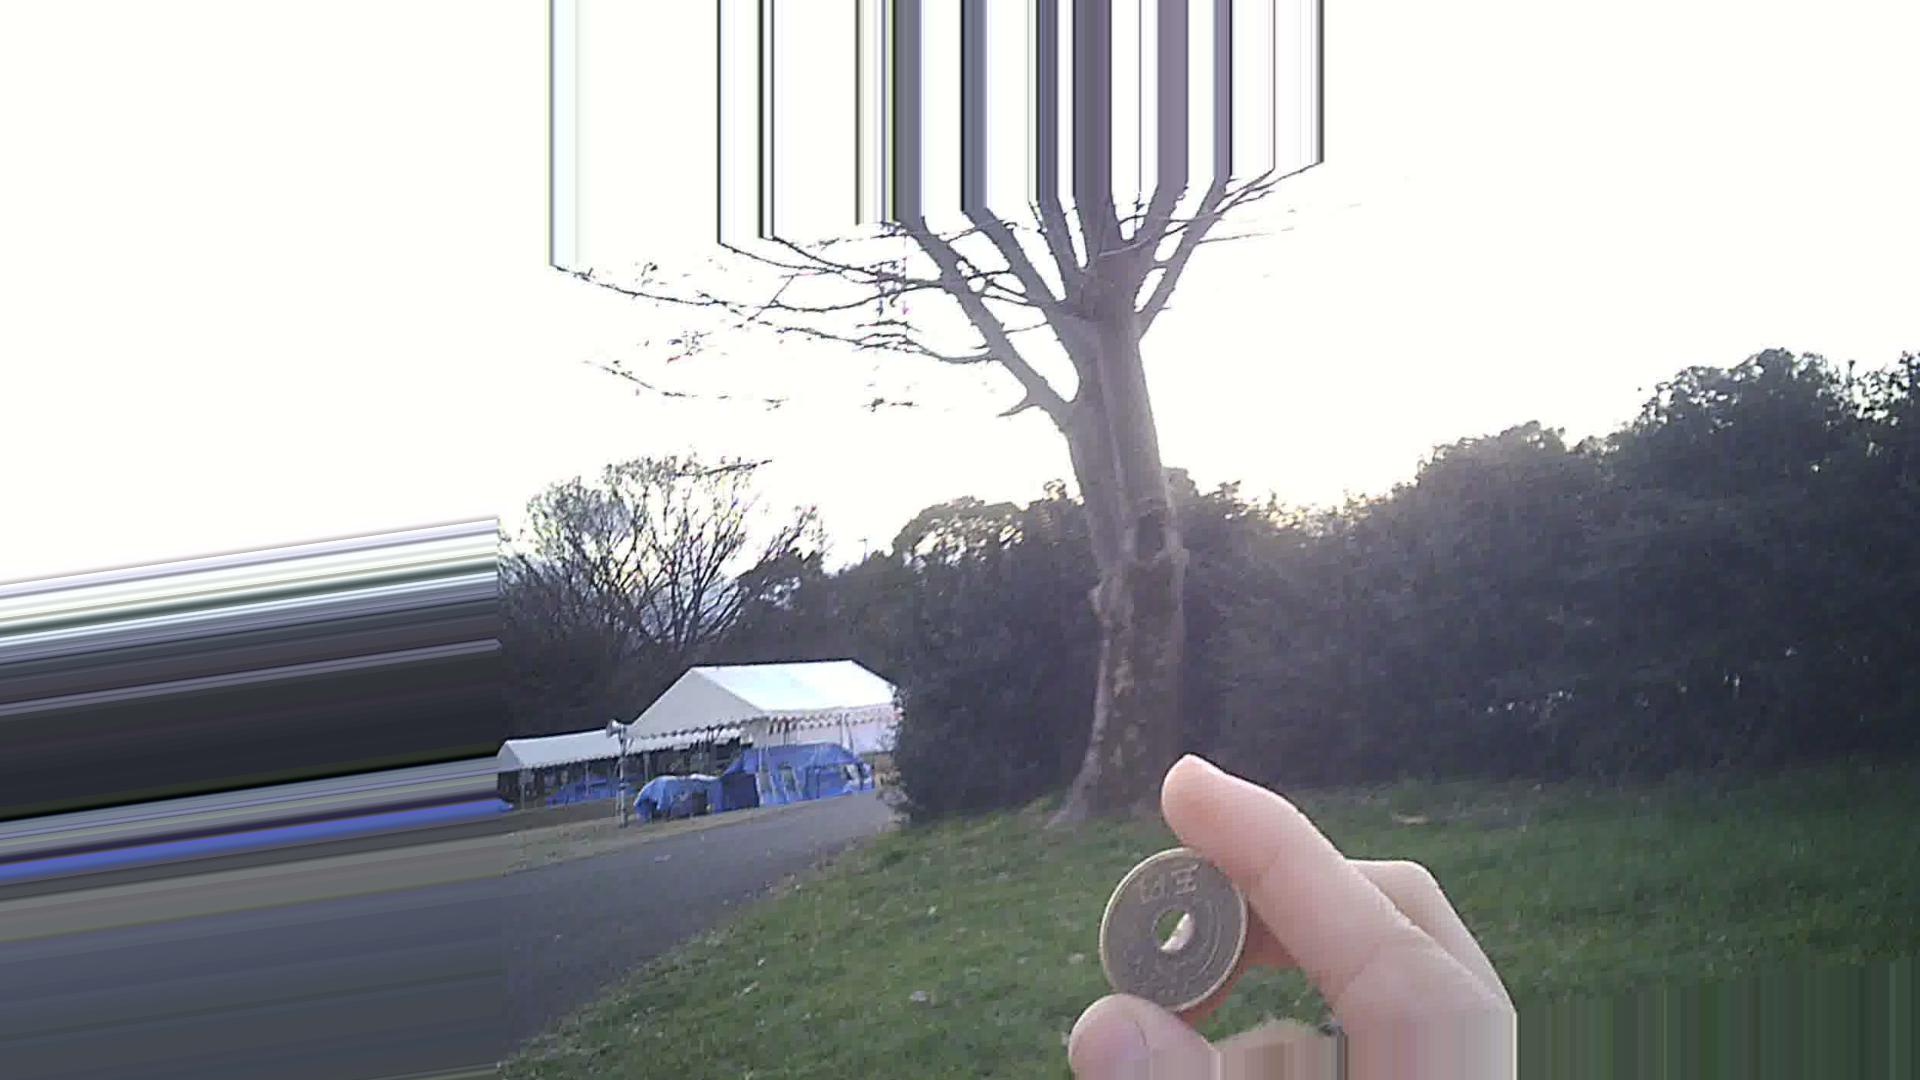5 Yen: (1101, 833, 1251, 1023)
